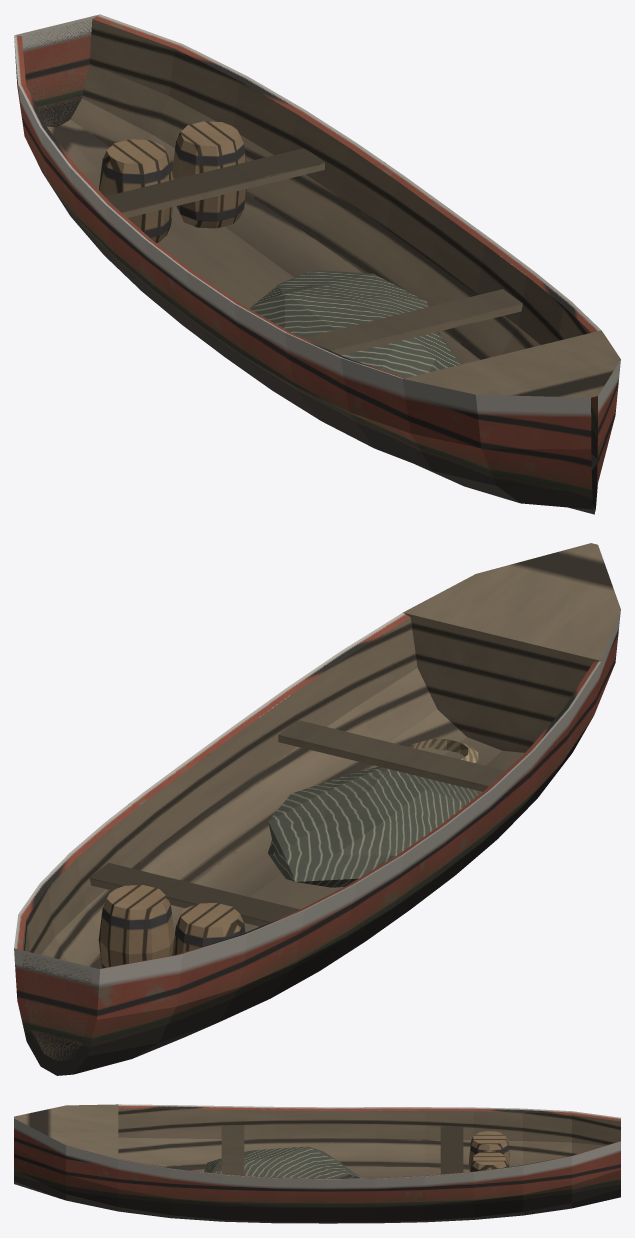
3 views of the same model, one above another, from view 1: azimuth 30°, elevation 25°; view 2: azimuth 150°, elevation 25°; view 3: azimuth 270°, elevation 25° (orthographic). The views are drawn at different scales.
Parts seen in each view (by area): view 1: 부두_목선_02; view 2: 부두_목선_02; view 3: 부두_목선_02.
Part boxes in pixels (box(x1,y1,x2,y2)): 부두_목선_02: box(14, 14, 620, 514); 부두_목선_02: box(14, 543, 620, 1075); 부두_목선_02: box(14, 1104, 620, 1223).
Bounding box in the file's own units: 300 × 185 × 1067.
5 materials, 5 textured.
